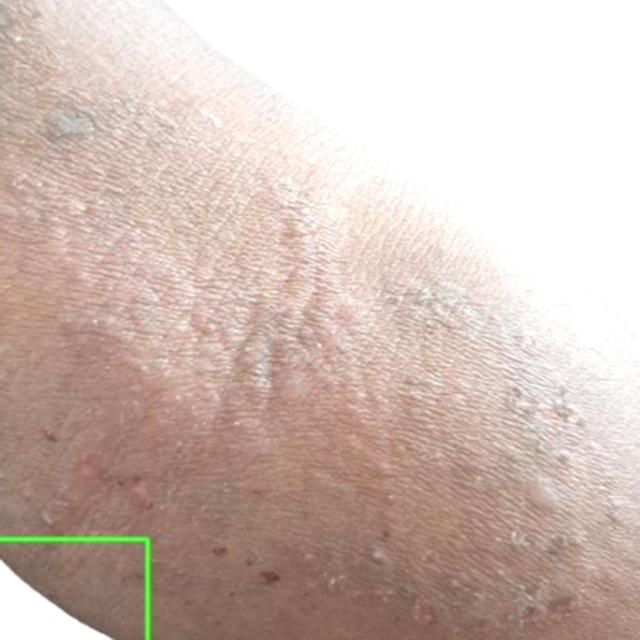Tinea Corporis: (0, 539, 147, 639)
